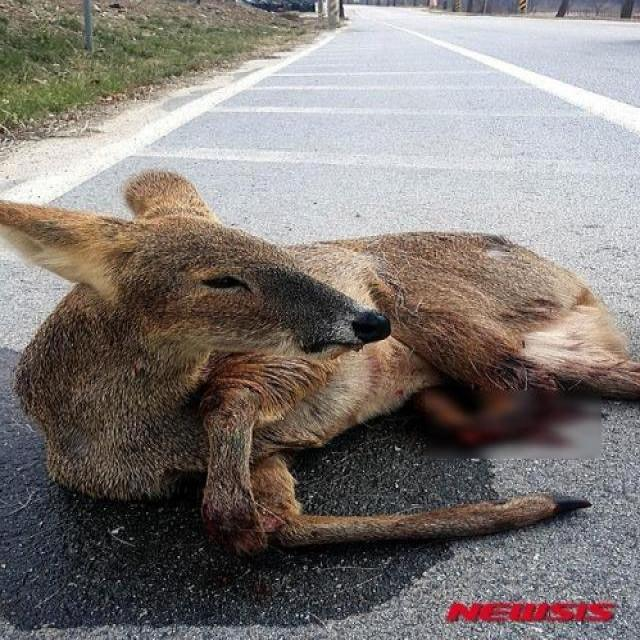deer: (0, 170, 640, 561)
